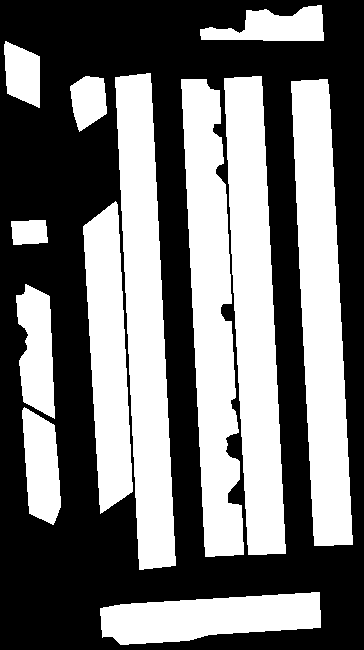parkingspot: (115, 73, 175, 569), (181, 79, 243, 556), (224, 76, 285, 554), (291, 79, 352, 545), (83, 201, 132, 513), (100, 592, 320, 644), (16, 284, 54, 418), (22, 407, 60, 524), (200, 5, 323, 40), (4, 41, 39, 107), (70, 76, 106, 131), (11, 220, 47, 244)
